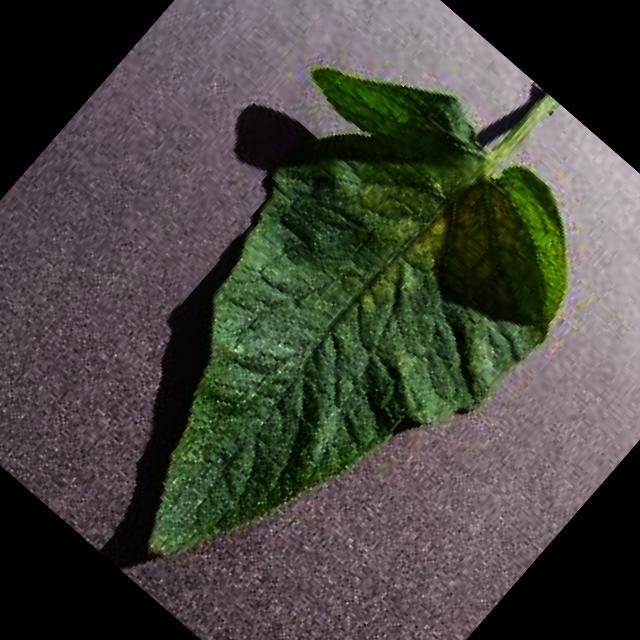Tomato spider mites leaf: (0, 16, 626, 640)
